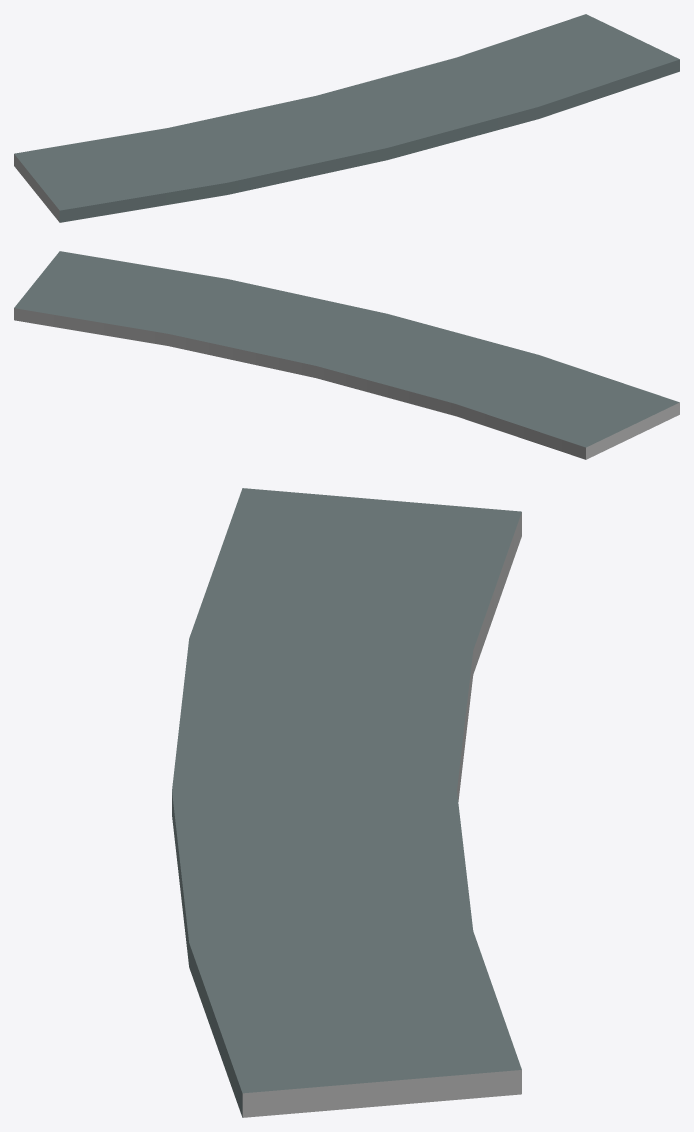
Rendered from MCM_2F_001.fbx.
3 renders of one model, top to bottom at view 1: azimuth 30°, elevation 25°; view 2: azimuth 150°, elevation 25°; view 3: azimuth 270°, elevation 25°, orthographic. The views are drawn at different scales.
Visible parts, largest first — view 1: MCM_2F_001; view 2: MCM_2F_001; view 3: MCM_2F_001.
Boxes of the visible parts, left/top/right/bottom form: MCM_2F_001: left=14, top=14, right=679, bottom=222; MCM_2F_001: left=14, top=251, right=679, bottom=459; MCM_2F_001: left=172, top=488, right=521, bottom=1117.
Bounding box in the file's own units: 10.58 × 2.59 × 0.2.
1 material, 1 textured.
